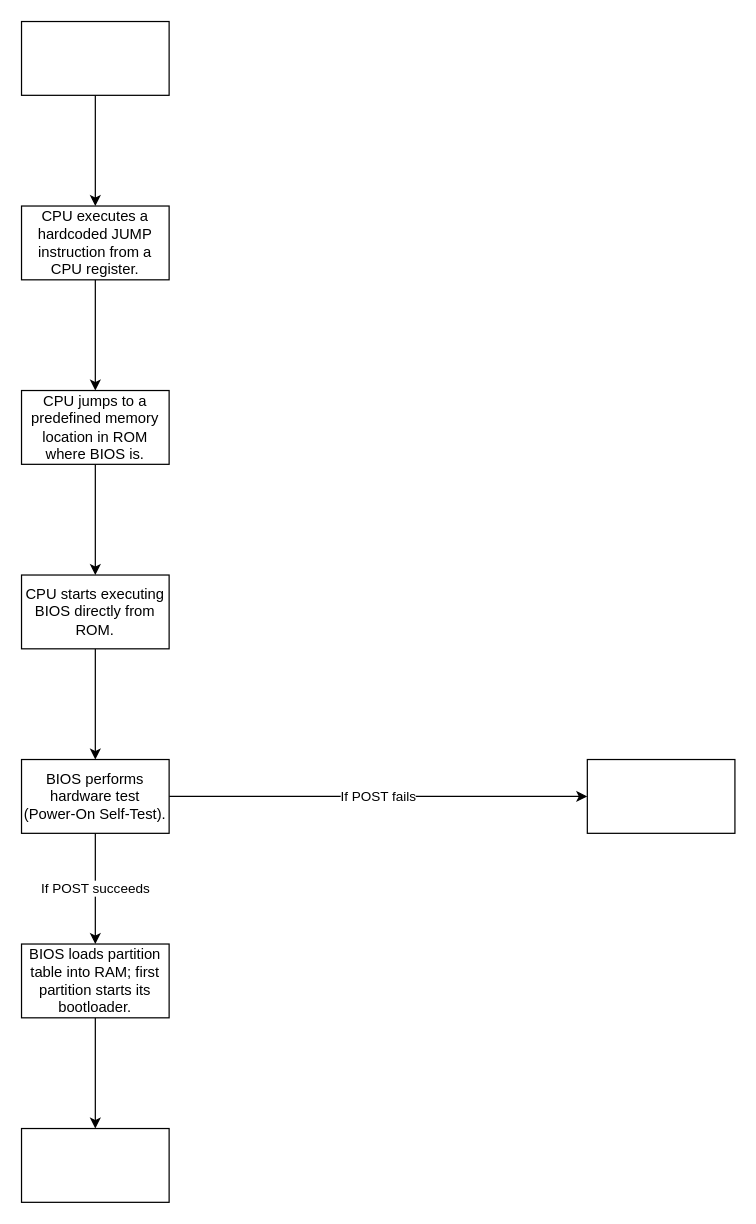
This 756x1224 diagram has some shape labels left out. The centre of each missing label's shape, as x and y in pixels:
"Booting halts." belongs at point 660,795.
"Bootloader enters stage 2: loads OS kernel into RAM and hands over control." belongs at point 94,1164.
"User presses the power button." belongs at point 94,57.
